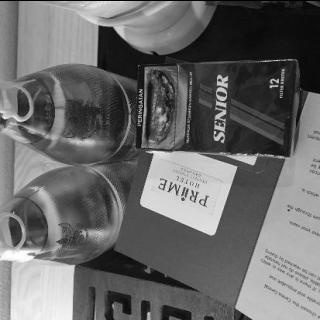objects: (136, 58, 300, 157)
